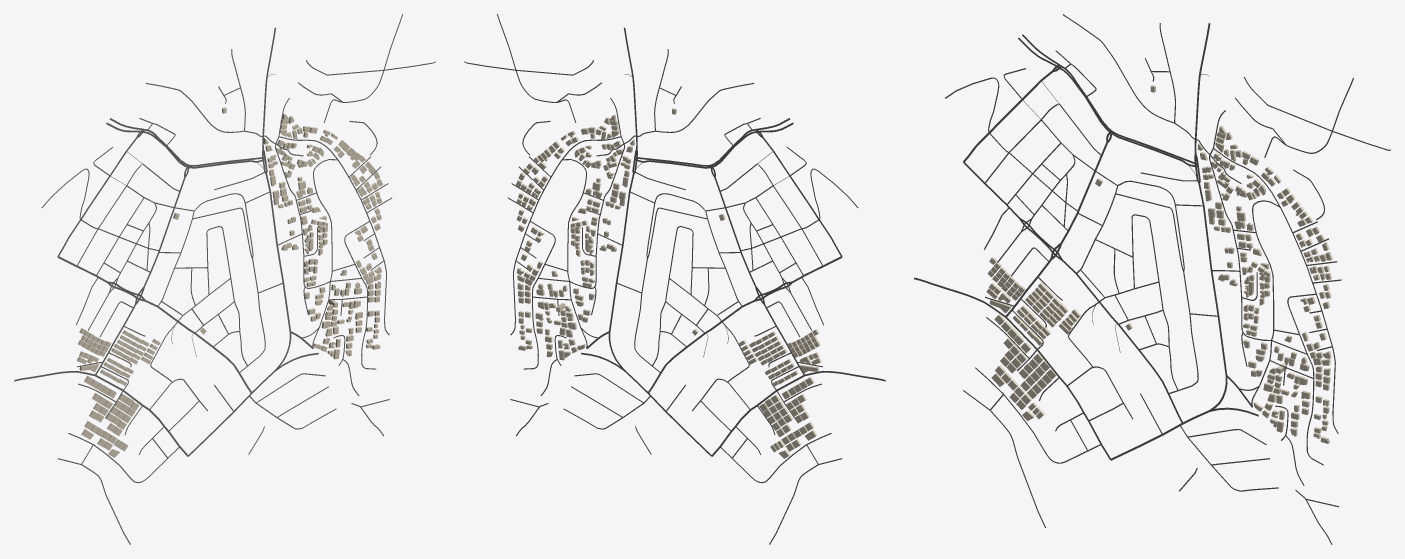
The model's file is amman_3596_3194.glb.
3 renders of one model, left to right at view 1: azimuth 30°, elevation 25°; view 2: azimuth 150°, elevation 25°; view 3: azimuth 330°, elevation 25°, orthographic. The views are drawn at different scales.
Parts seen in each view (by area): view 1: Road شارع أبو طالب; view 2: Road شارع أبو طالب; view 3: Road شارع أبو طالب, Road شارع المنارة.
Part boxes in pixels (x1,y1,x2,y2): Road شارع أبو طالب: [188, 173, 291, 456]; Road شارع أبو طالب: [608, 173, 711, 456]; Road شارع أبو طالب: [1110, 183, 1227, 460]; Road شارع المنارة: [914, 277, 1111, 459].
Bounding box in the file's own units: 1324 × 1447 × 32.2.
